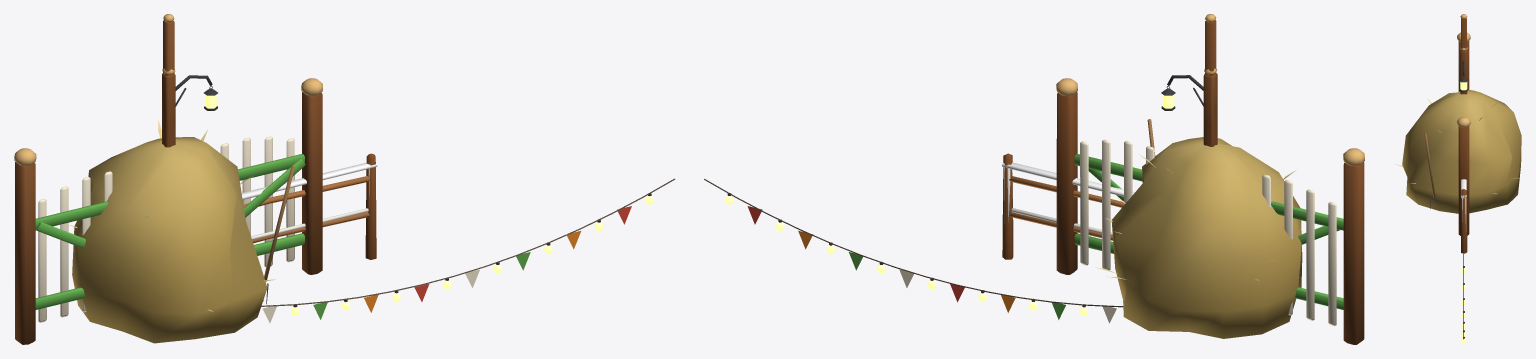
3 renders of one model, left to right at view 1: azimuth 30°, elevation 25°; view 2: azimuth 150°, elevation 25°; view 3: azimuth 270°, elevation 25°, orthographic. The views are drawn at different scales.
Parts seen in each view (by area): view 1: haystack, gate_big, garland, fence_segment, lantern_post, railing_segment, garland_pole; view 2: haystack, gate_big, garland, fence_segment, lantern_post, railing_segment, garland_pole; view 3: haystack, gate_big, fence_segment, lantern_post, garland, garland_pole, railing_segment.
Part boxes in pixels (bbox=[...]): haystack: bbox=[69, 119, 294, 343]; gate_big: bbox=[14, 78, 322, 344]; garland: bbox=[261, 178, 675, 323]; fence_segment: bbox=[243, 153, 376, 259]; lantern_post: bbox=[162, 68, 217, 147]; railing_segment: bbox=[241, 162, 377, 239]; garland_pole: bbox=[163, 14, 174, 75]; haystack: bbox=[1096, 119, 1302, 338]; gate_big: bbox=[1056, 78, 1364, 344]; garland: bbox=[704, 179, 1123, 323]; fence_segment: bbox=[1002, 153, 1123, 259]; lantern_post: bbox=[1161, 68, 1217, 146]; railing_segment: bbox=[1002, 162, 1134, 235]; garland_pole: bbox=[1205, 14, 1216, 75]; haystack: bbox=[1394, 90, 1521, 213]; gate_big: bbox=[1457, 32, 1470, 235]; fence_segment: bbox=[1461, 189, 1467, 253]; lantern_post: bbox=[1459, 47, 1467, 94]; garland: bbox=[1461, 253, 1466, 343]; garland_pole: bbox=[1460, 14, 1467, 51]; railing_segment: bbox=[1461, 179, 1466, 231].
Bounding box in the file's own units: 7.81 × 3.96 × 2.17.
